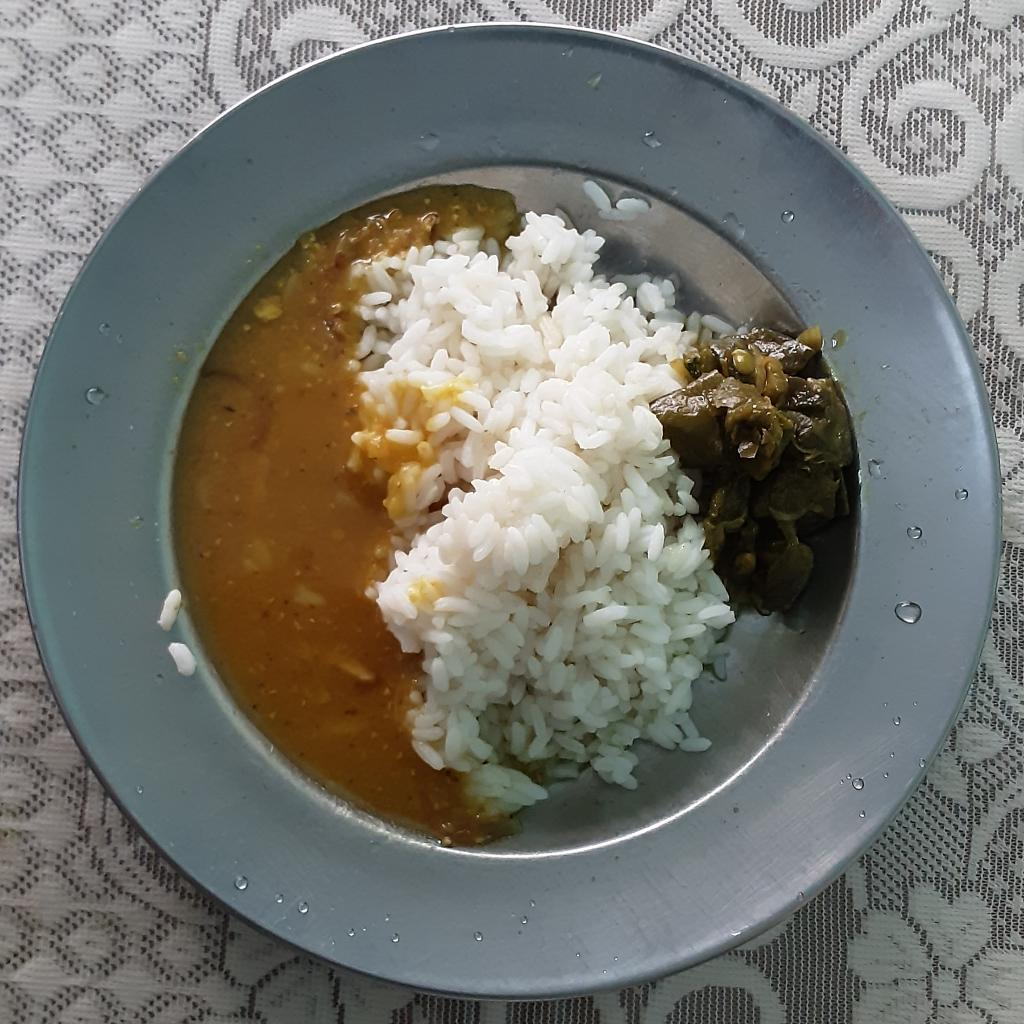daal: (166, 180, 517, 846)
rice: (349, 200, 744, 814)
shim: (664, 324, 858, 620)
